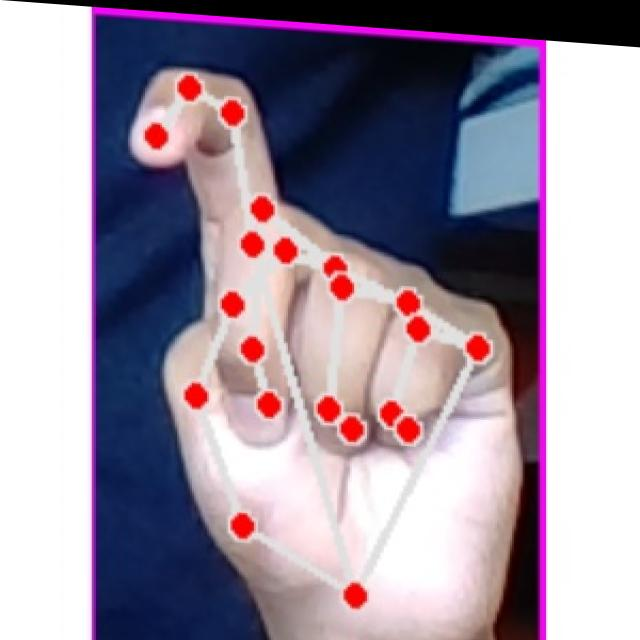Z: (121, 50, 516, 632)
